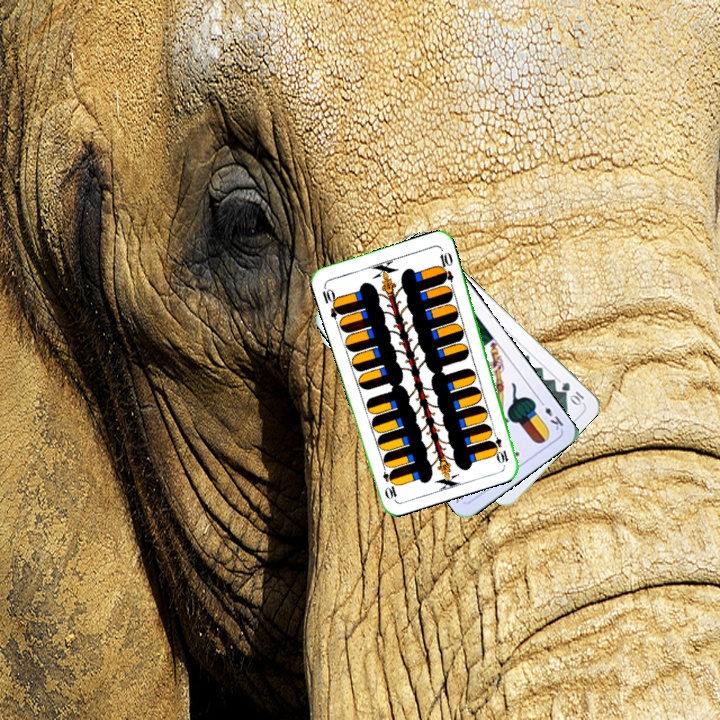E10: (318, 281, 345, 321), (488, 426, 511, 466)
EK: (535, 396, 566, 433)
G10: (557, 378, 587, 408)
